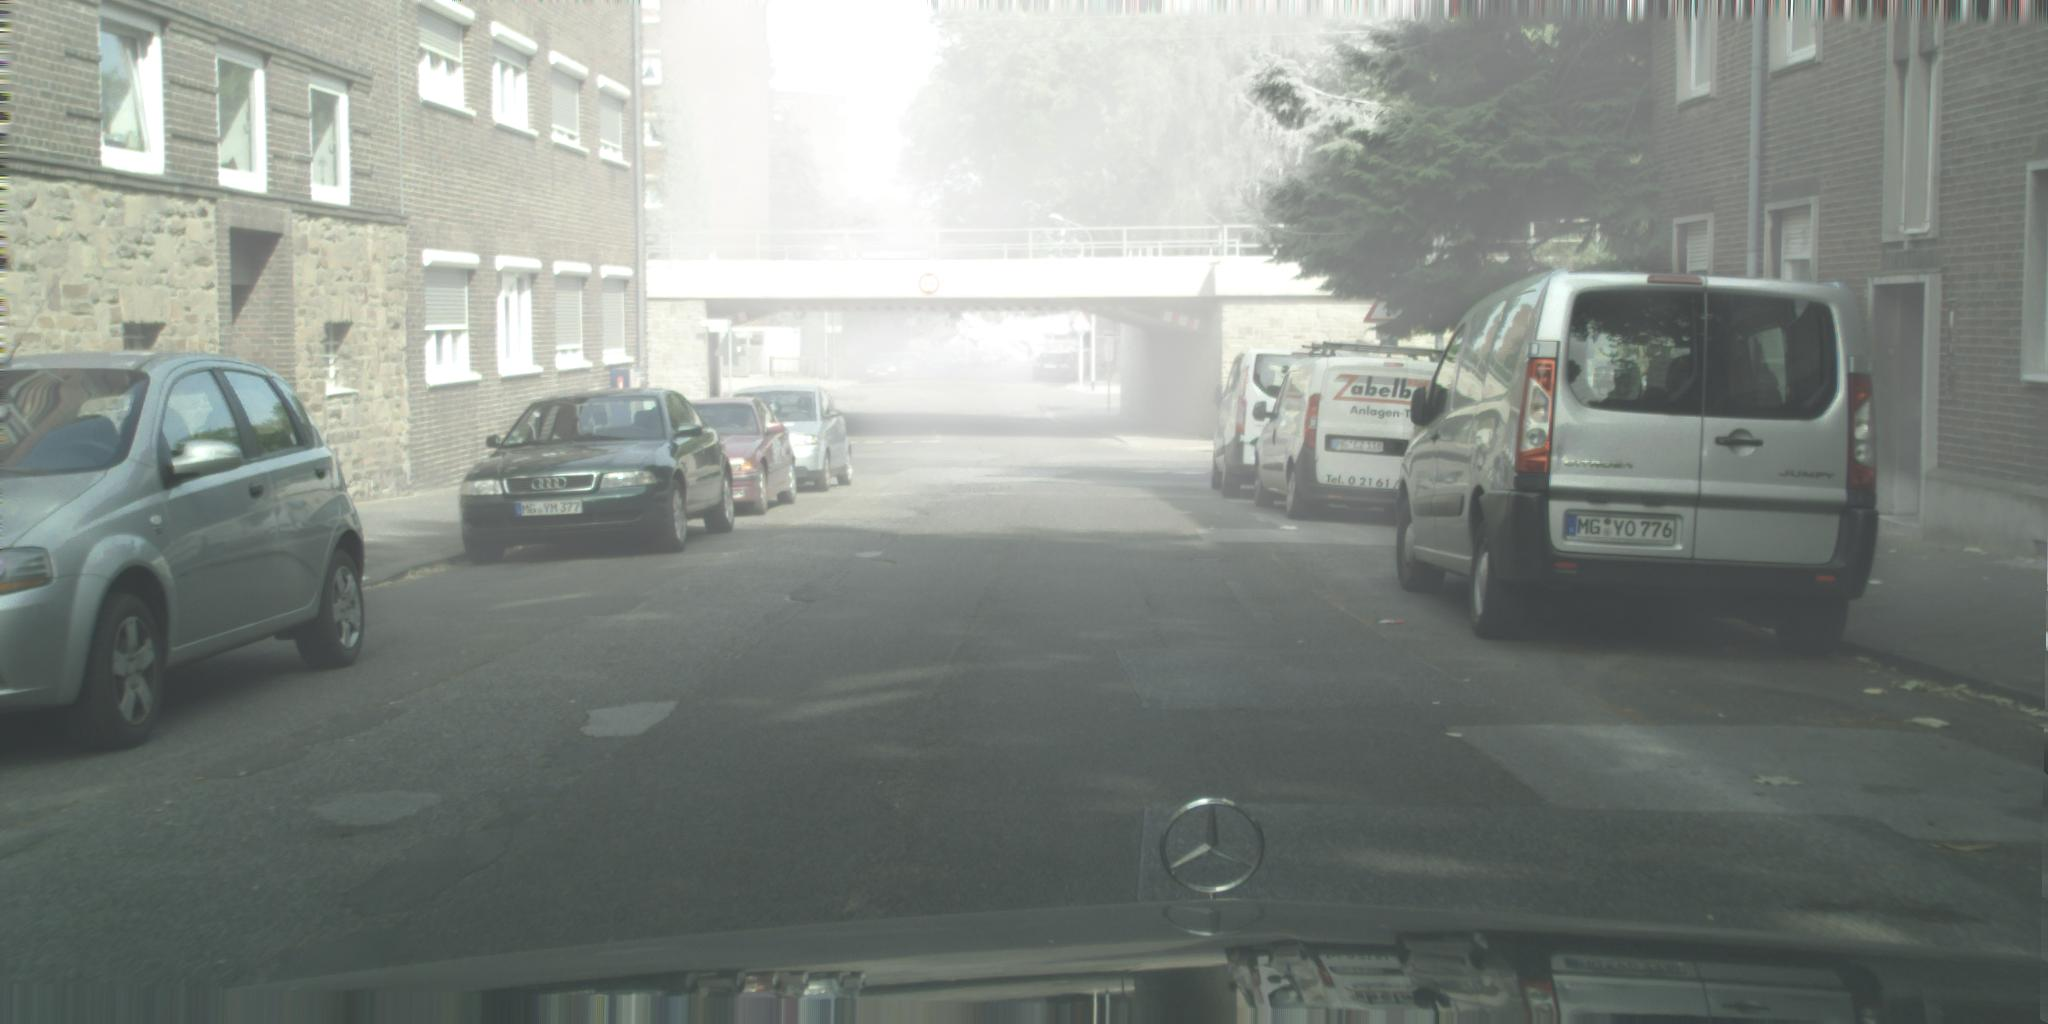car: (1396, 268, 1880, 658), (1, 350, 366, 754), (458, 388, 737, 566), (1253, 342, 1462, 522), (1212, 349, 1425, 502), (684, 396, 798, 516), (731, 384, 854, 492)
